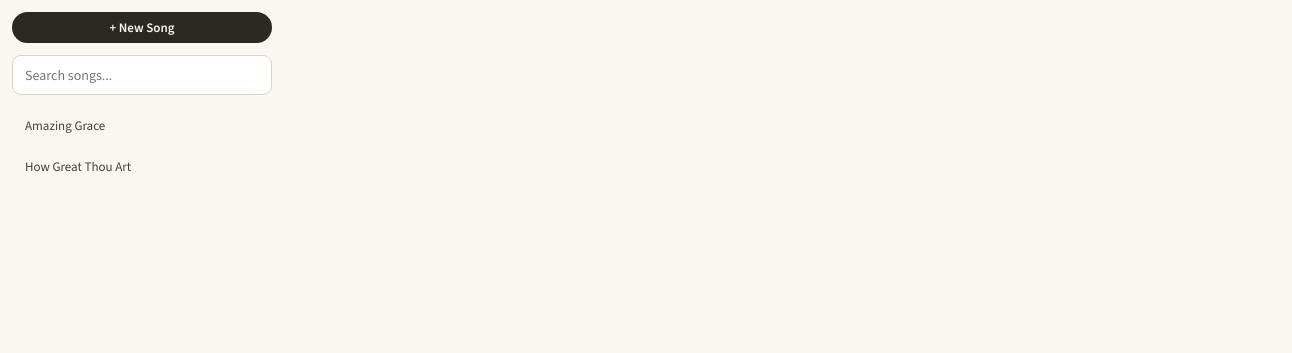
Test: SongLibraryPanel › opens a song editor with its blocks when a song is clicked
This screenshot has width=1292, height=353.
Click the button "Amazing Grace" at (65, 126), box x1=12 y1=107 x2=272 y2=144
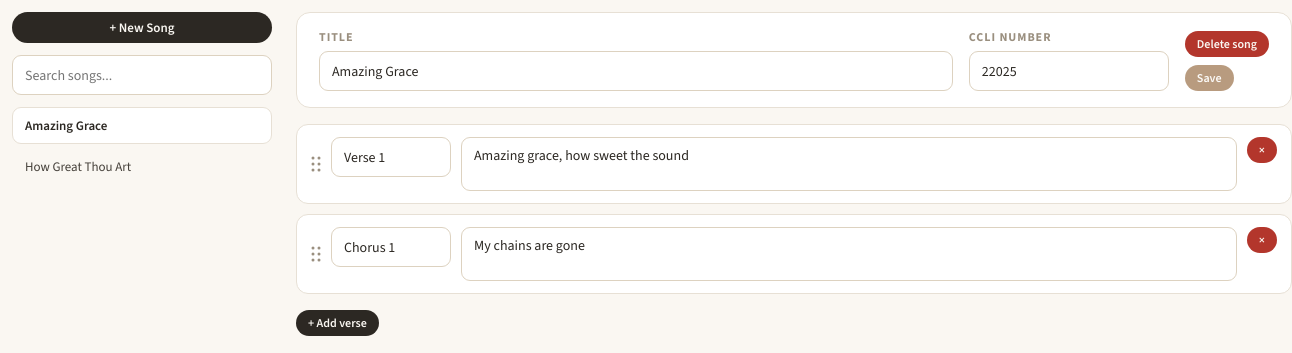
Expected: the text box showing "Amazing grace, how sweet the sound" is shown, x1=461 y1=137 x2=1237 y2=191
Expected: the text box showing "My chains are gone" is shown, x1=461 y1=227 x2=1237 y2=281
